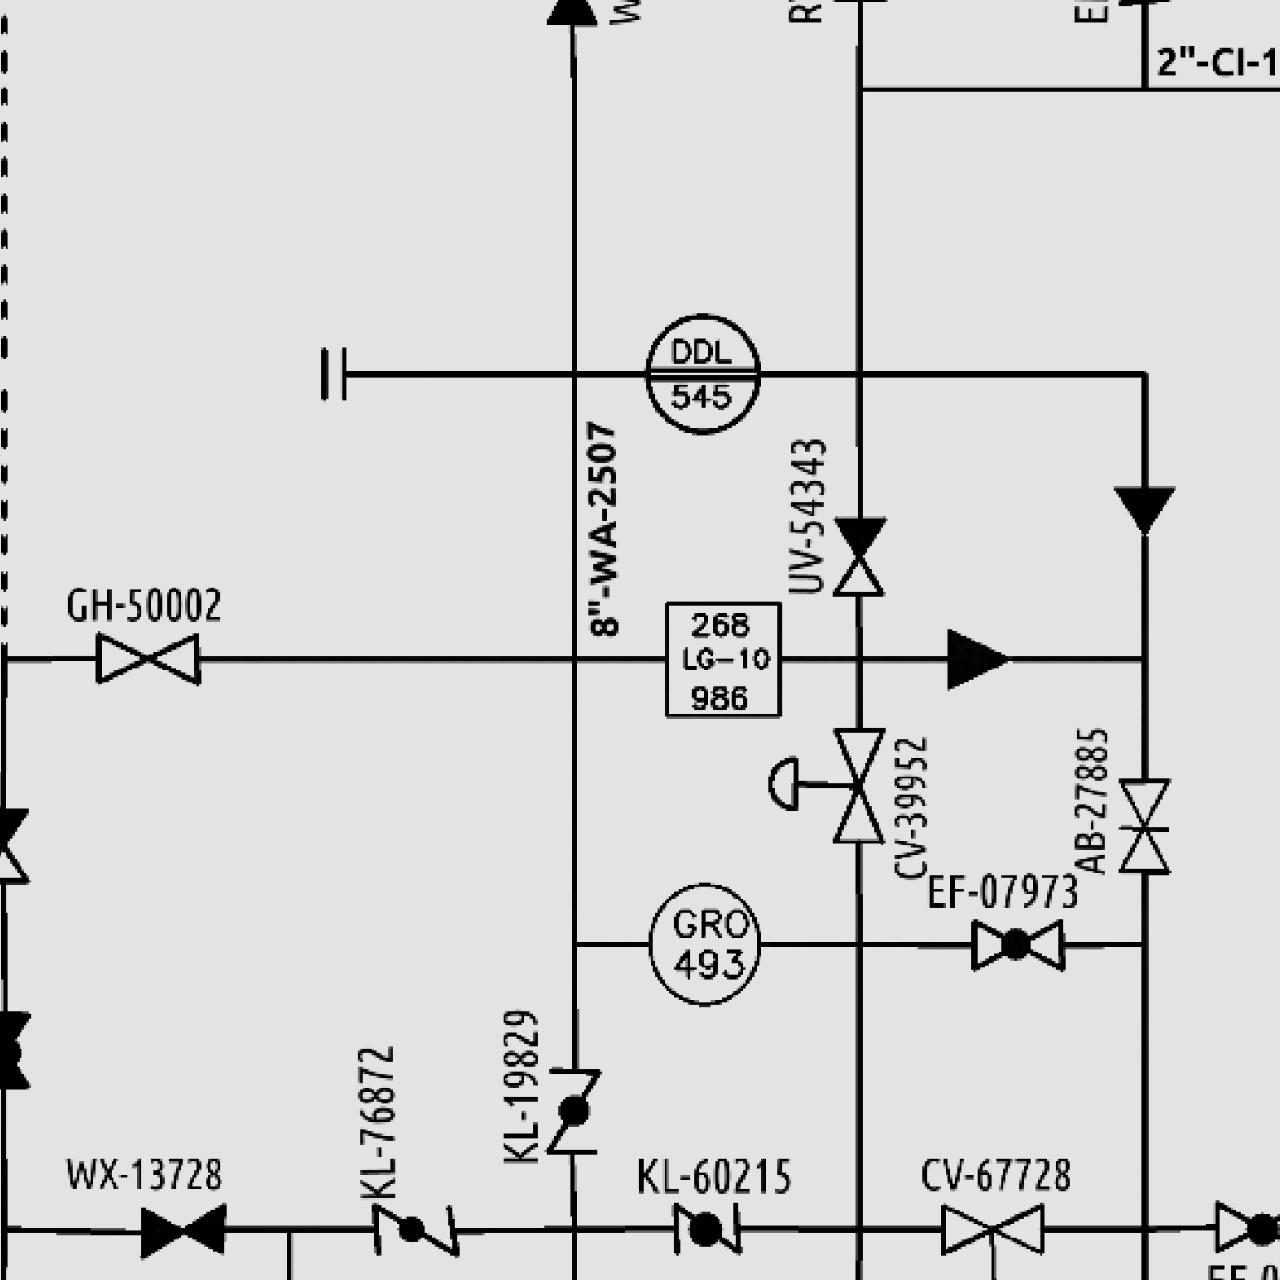Control-Panel: (638, 210, 765, 338)
Half closed valve: (828, 512, 888, 599)
